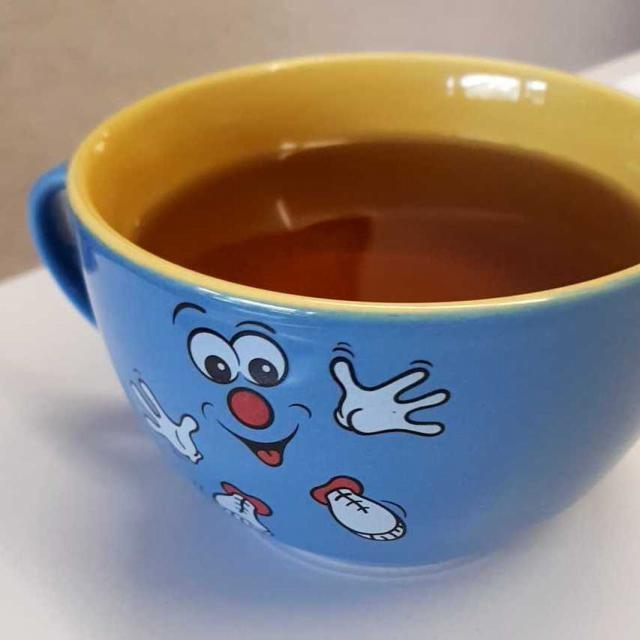tea: (123, 111, 614, 303)
